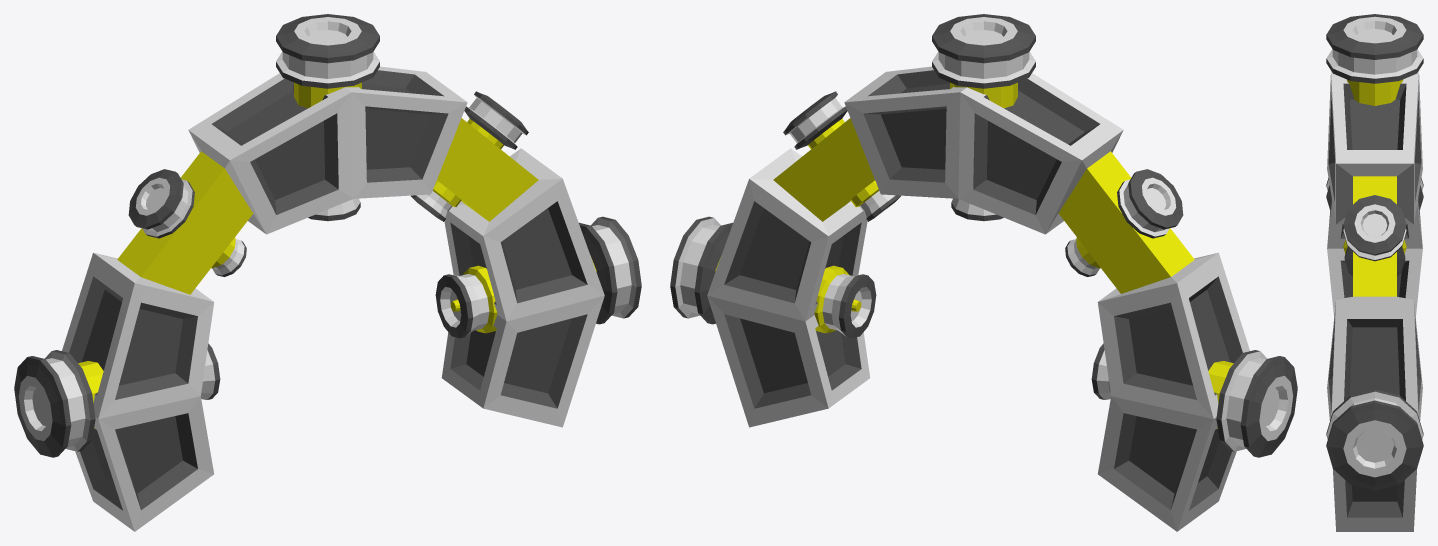
Rendered from door.fbx.
3 renders of one model, left to right at view 1: azimuth 30°, elevation 25°; view 2: azimuth 150°, elevation 25°; view 3: azimuth 270°, elevation 25°, orthographic. The views are drawn at different scales.
Parts seen in each view (by area): view 1: polySurface19; view 2: polySurface19; view 3: polySurface19.
Part boxes in pixels (x1,y1,x2,y2): polySurface19: (14,14,641,531); polySurface19: (670,14,1297,531); polySurface19: (1326,14,1423,531).
Size of the model in its own units: 1.98 by 1.4 by 0.3049.
